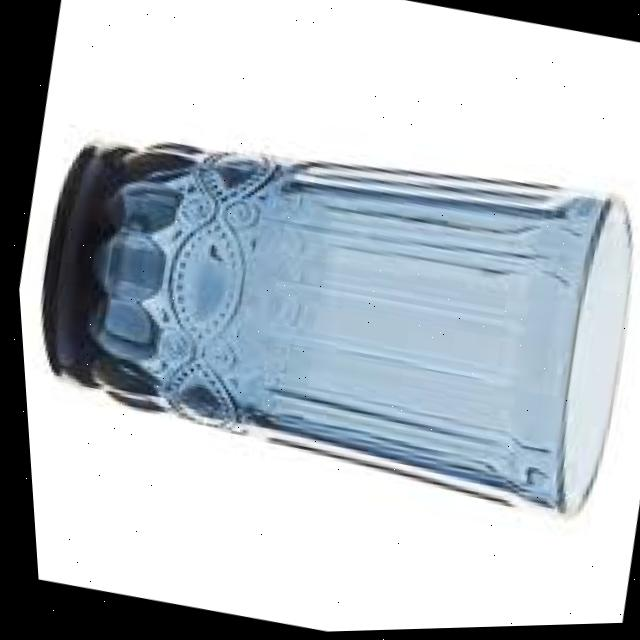Dry: (5, 78, 640, 543)
